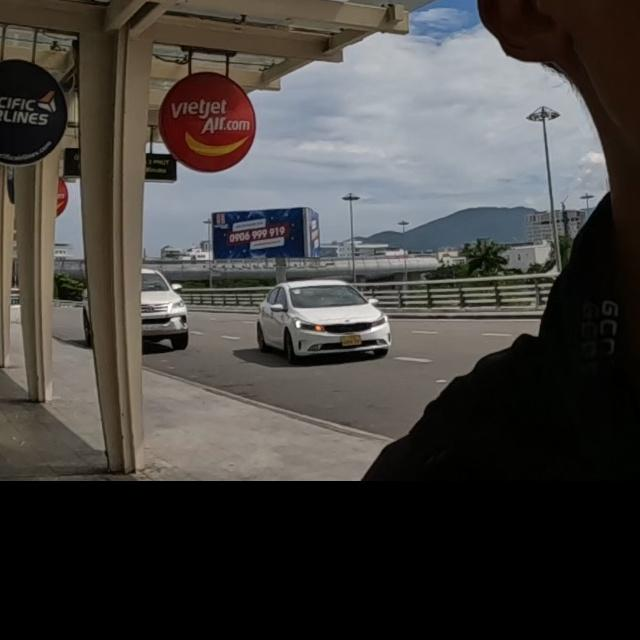license-plate: (340, 334, 362, 346)
